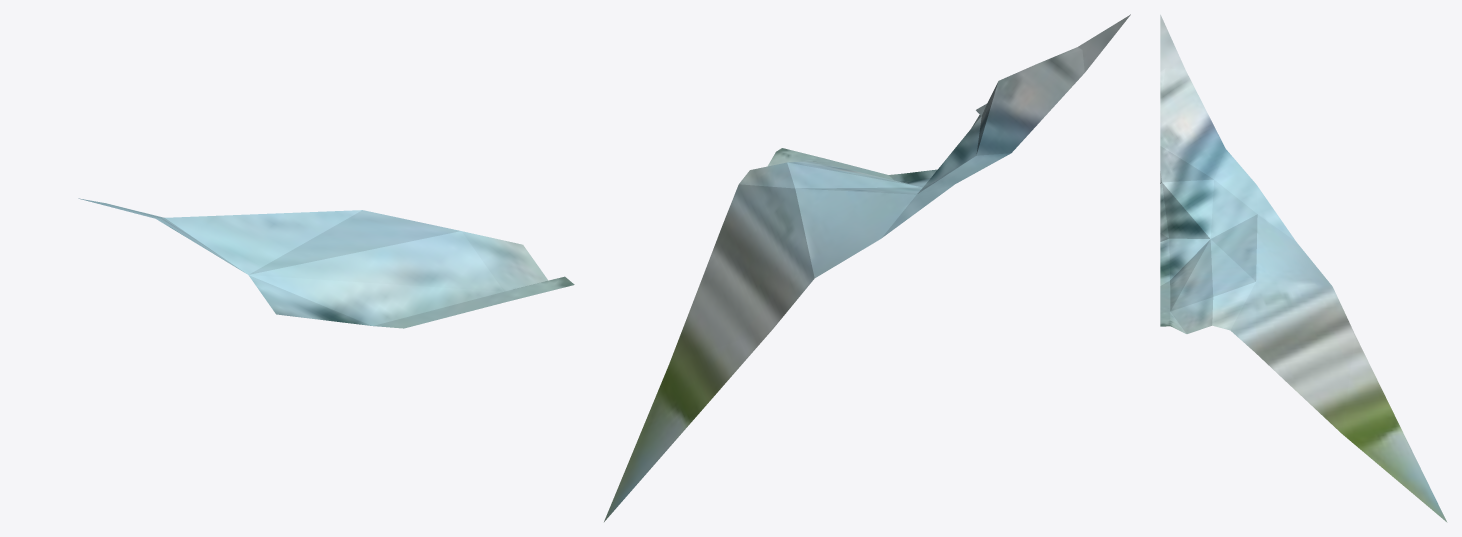
3 views of the same model, side by side, from view 1: azimuth 30°, elevation 25°; view 2: azimuth 150°, elevation 25°; view 3: azimuth 270°, elevation 25° (orthographic). The views are drawn at different scales.
Bounding box in the file's own units: 1.25 × 1.59 × 1.11.
1 material, 1 textured.
